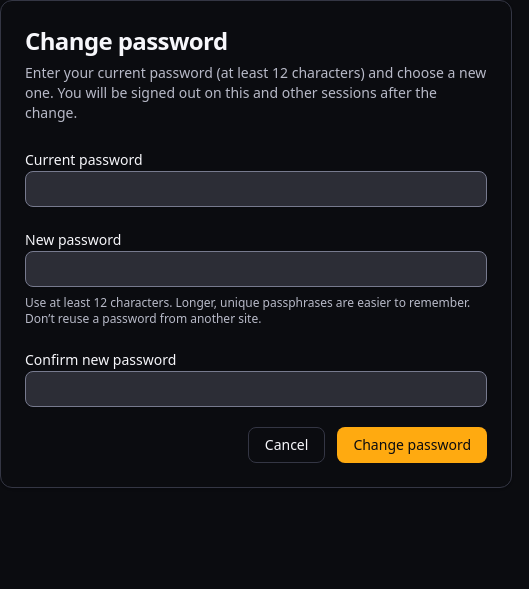
Scenario: self-service password change › explains rate limiting so the user can retry later
Type "current-test-password" into the password field labelled "Current password".
click(256, 189); type("current-test-password")  # box x1=25 y1=171 x2=487 y2=207
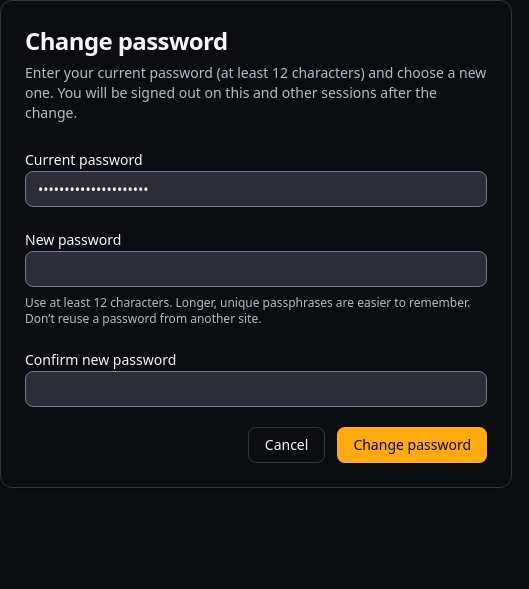
Type "replacement-test-password" into the password field labelled "New password".
click(256, 269); type("replacement-test-password")  # box x1=25 y1=251 x2=487 y2=287
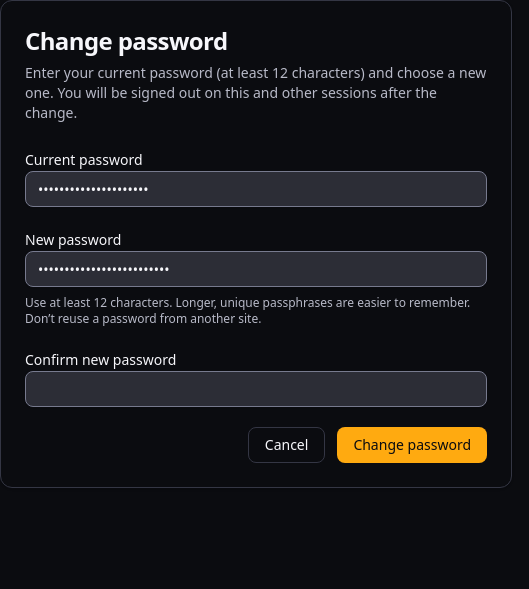
Type "replacement-test-password" into the password field labelled "Confirm new password".
click(256, 389); type("replacement-test-password")  # box x1=25 y1=371 x2=487 y2=407
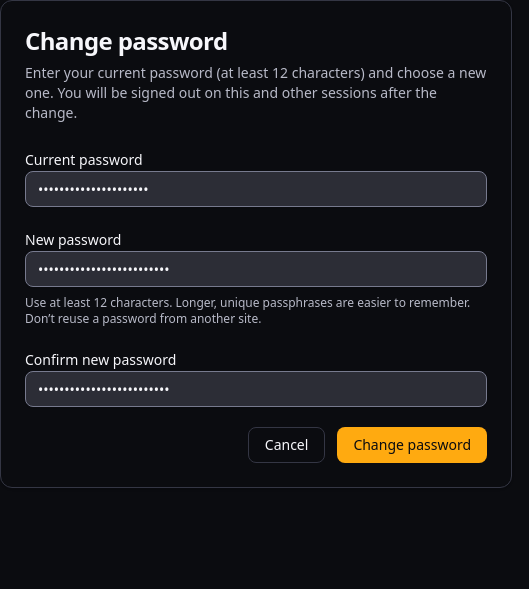
Click the button "Change password".
click(412, 445)  # box x1=337 y1=427 x2=487 y2=463
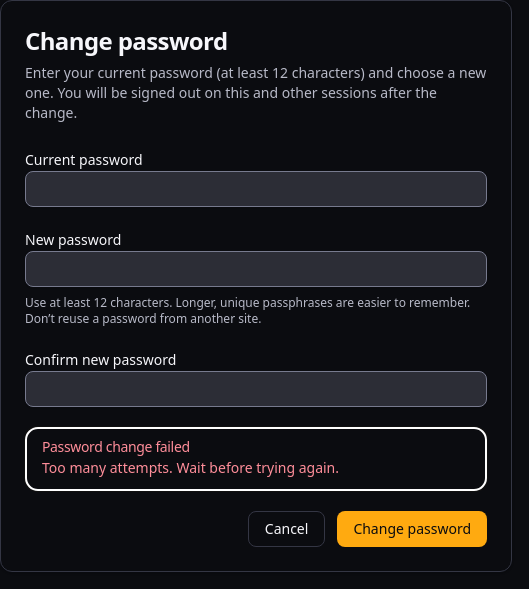
Check: the message shows "Too many attempts. Wait before trying again.", box x1=42 y1=458 x2=339 y2=477
